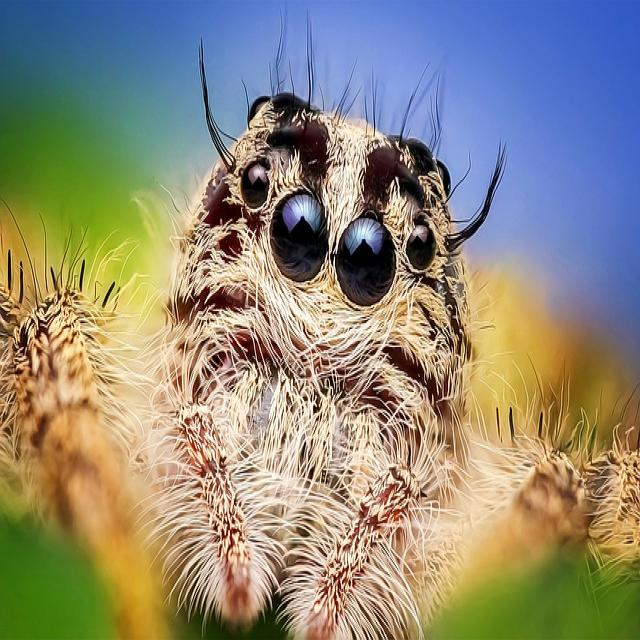spyder: (21, 92, 640, 640)
